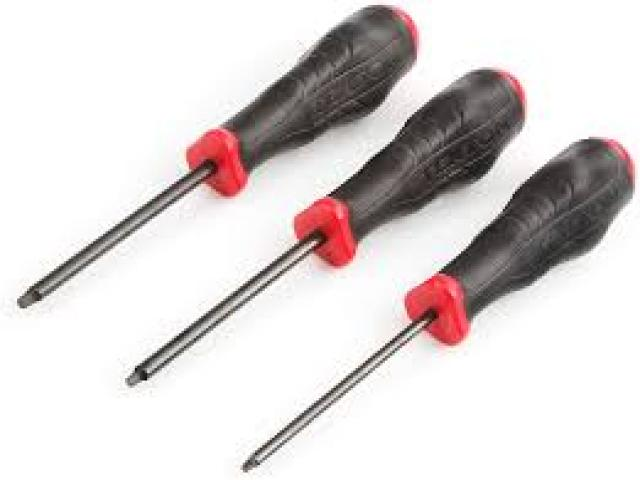Screwdriver: (242, 139, 632, 470), (126, 68, 524, 385), (18, 5, 416, 307)
